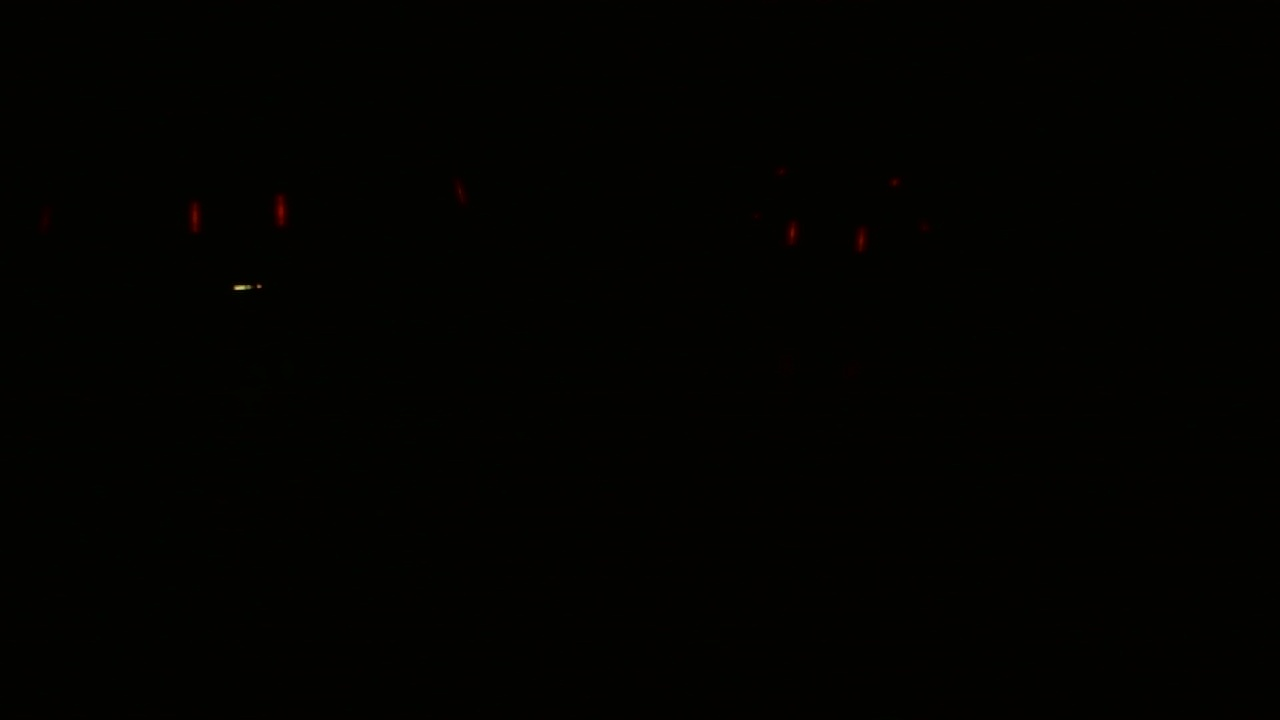pair1: (180, 186, 300, 242)
pair2: (779, 215, 878, 263)
